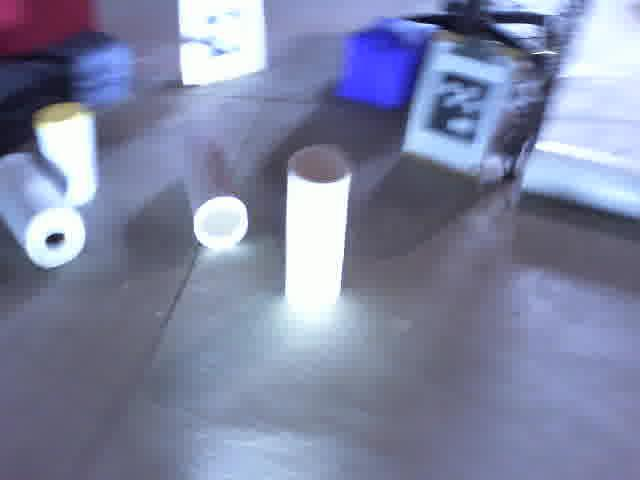coral: (279, 139, 363, 322), (170, 127, 253, 255), (26, 94, 102, 214)
